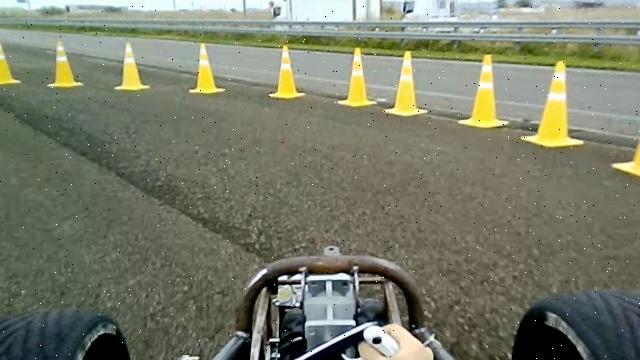yellow cone: (520, 59, 584, 148), (458, 53, 509, 128), (611, 70, 640, 180), (382, 50, 428, 116), (336, 46, 376, 106), (268, 44, 305, 99), (188, 42, 224, 94), (114, 41, 150, 91), (47, 40, 83, 88), (0, 38, 21, 85)
